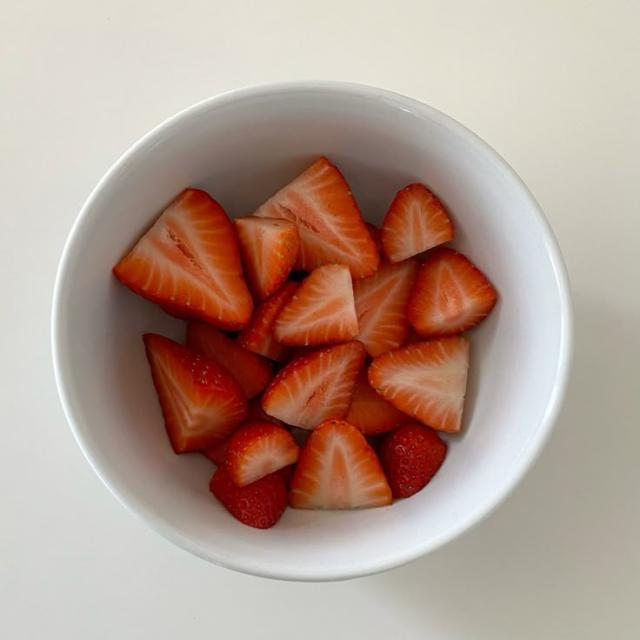strawberry sliced: (114, 189, 253, 330), (254, 158, 379, 278), (144, 334, 246, 452), (368, 337, 469, 432), (289, 420, 392, 508), (263, 341, 365, 429), (407, 248, 496, 337), (274, 265, 359, 345), (187, 321, 273, 398), (354, 260, 418, 357), (382, 183, 453, 262), (234, 216, 299, 299), (380, 422, 446, 497), (238, 282, 299, 362), (210, 466, 286, 528), (227, 421, 299, 486), (347, 370, 409, 435), (245, 397, 282, 425), (247, 397, 283, 424), (202, 438, 228, 465), (366, 223, 382, 255), (290, 346, 325, 360), (290, 427, 310, 447), (406, 326, 423, 344)
